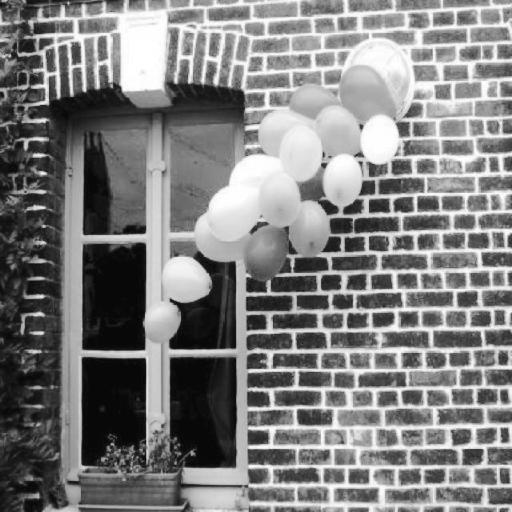balloon: (334, 39, 425, 119), (250, 102, 328, 156), (202, 182, 274, 240), (193, 208, 261, 262), (338, 66, 400, 124), (239, 220, 291, 284), (286, 195, 334, 260), (256, 170, 306, 228), (359, 110, 402, 169), (311, 108, 361, 158), (276, 122, 318, 180), (162, 254, 211, 303), (322, 154, 368, 206), (224, 149, 286, 187), (138, 302, 184, 344), (285, 84, 340, 117)
